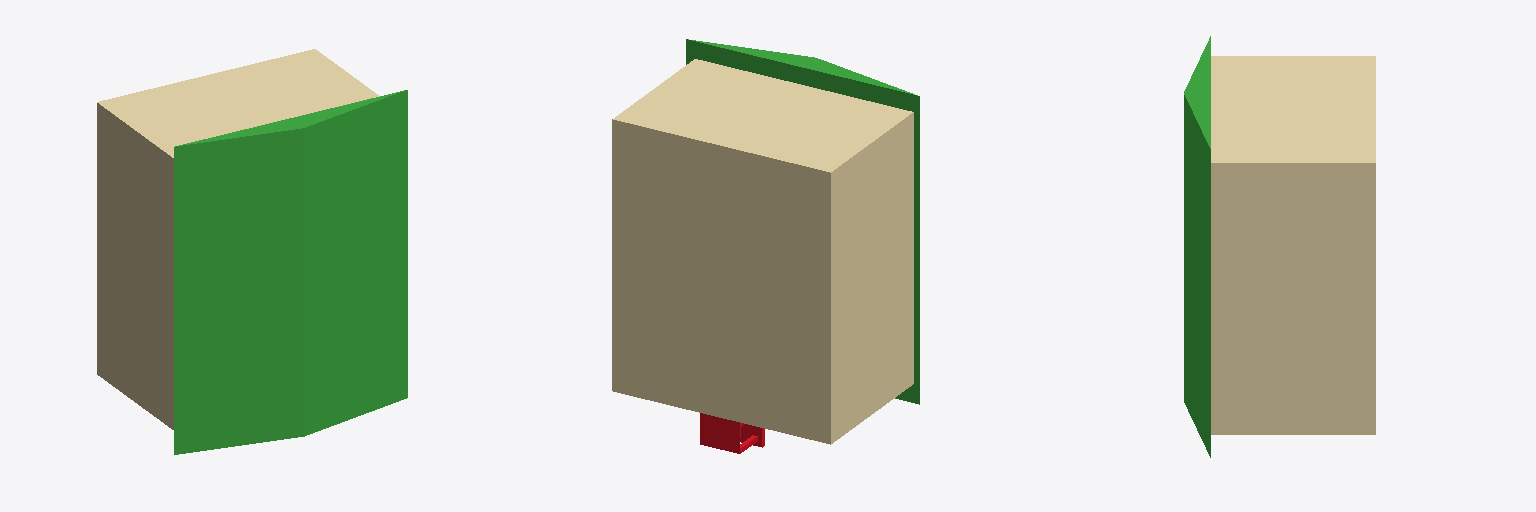
Rendered from tinker.obj.
3 renders of one model, left to right at view 1: azimuth 30°, elevation 25°; view 2: azimuth 150°, elevation 25°; view 3: azimuth 270°, elevation 25°, orthographic.
Visible parts, largest first — view 1: obj_0; view 2: obj_0; view 3: obj_0.
Boxes of the visible parts, box(x1,y1,x2,y2) form: obj_0: box(97, 49, 407, 454); obj_0: box(612, 39, 919, 453); obj_0: box(1184, 36, 1375, 457).
Bounding box in the file's own units: 147 × 195 × 105.